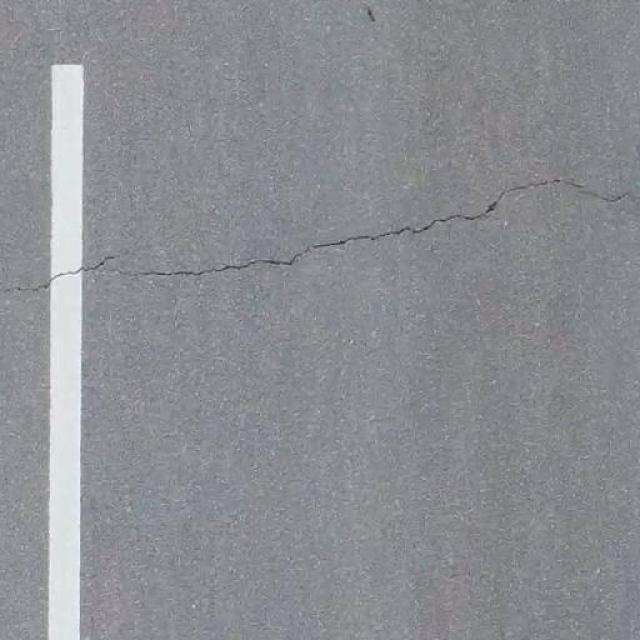Crack: (28, 152, 614, 306)
